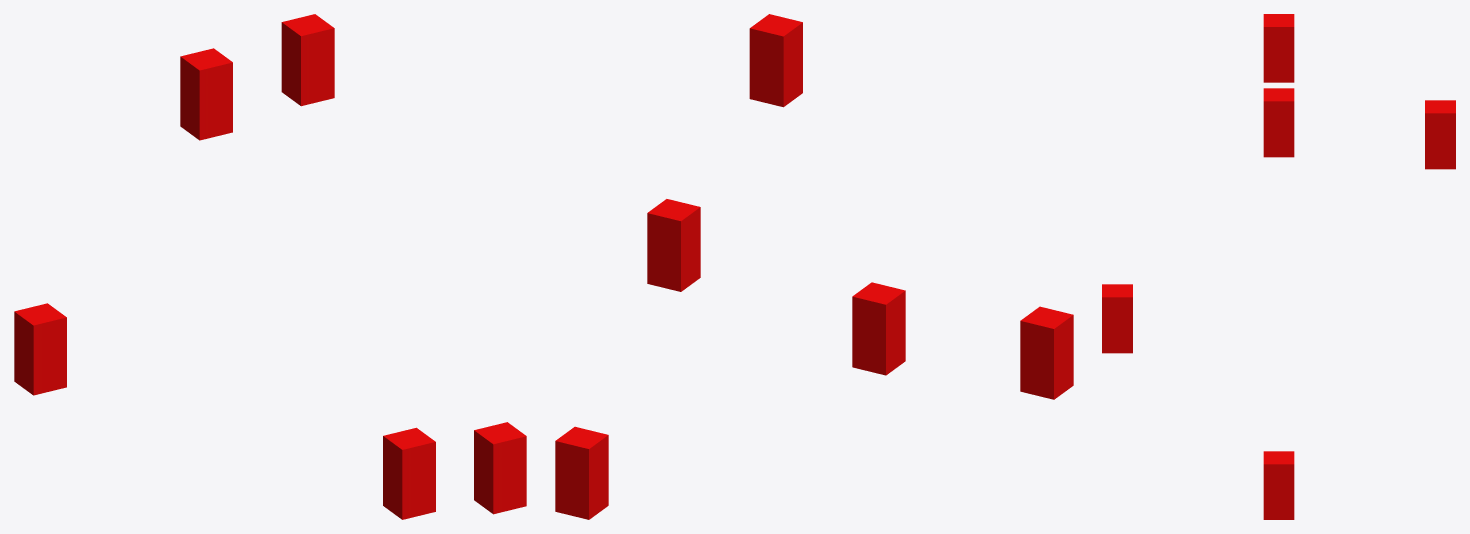
File: M14_Enemies.fbx
3 renders of one model, left to right at view 1: azimuth 30°, elevation 25°; view 2: azimuth 150°, elevation 25°; view 3: azimuth 270°, elevation 25°, orthographic. The views are drawn at different scales.
Parts seen in each view (by area): view 1: Enemy1, Enemy3, Enemy4, Enemy2, Enemy5; view 2: Enemy2, Enemy4, Enemy5, Enemy1, Enemy3; view 3: Enemy5, Enemy1, Enemy4, Enemy2, Enemy3.
Boxes of the visible parts, x1,y1,x2,y2 form: Enemy1: (281, 14, 334, 106); Enemy3: (180, 48, 232, 140); Enemy4: (474, 422, 526, 514); Enemy2: (383, 427, 435, 519); Enemy5: (14, 303, 66, 395); Enemy2: (852, 282, 905, 375); Enemy4: (555, 426, 608, 519); Enemy5: (1020, 306, 1073, 399); Enemy1: (749, 14, 802, 107); Enemy3: (647, 199, 700, 291); Enemy5: (1263, 88, 1294, 157); Enemy1: (1263, 14, 1294, 82); Enemy4: (1263, 451, 1294, 519); Enemy2: (1102, 284, 1132, 353); Enemy3: (1425, 100, 1455, 169).
Size of what is drawn, in the model's own units: 29.5 by 30 by 23.
